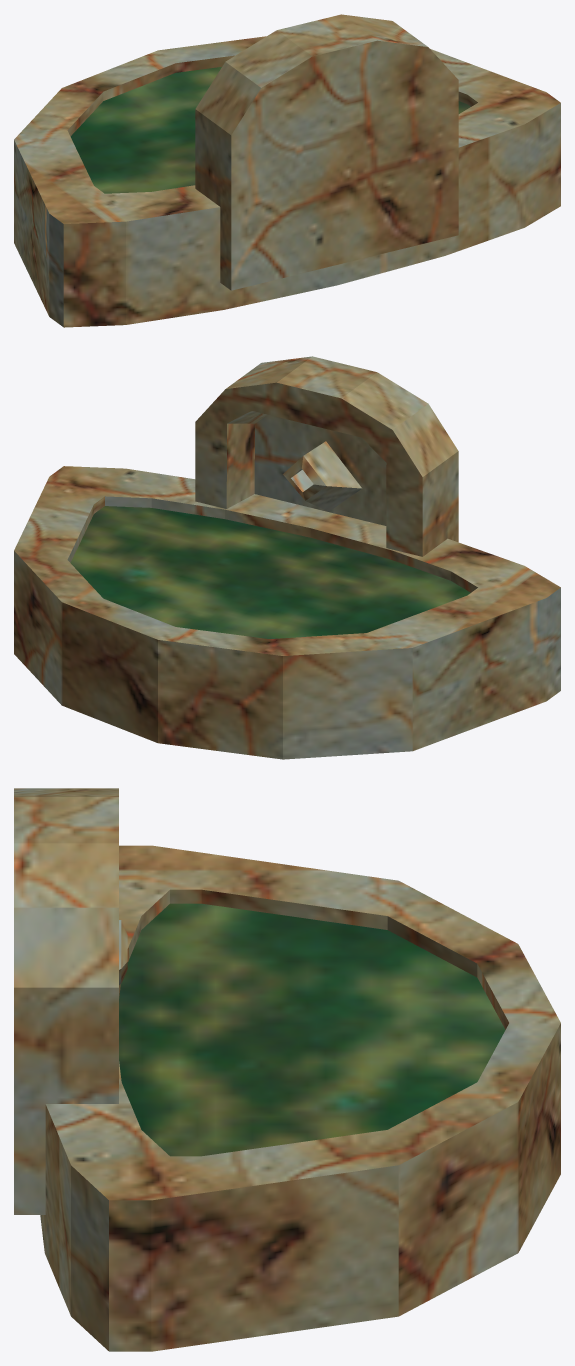
The picture shows the model from 3 angles, top to bottom: view 1: azimuth 30°, elevation 25°; view 2: azimuth 150°, elevation 25°; view 3: azimuth 270°, elevation 25°; orthographic projection. The views are drawn at different scales.
Parts seen in each view (by area): view 1: 噴水, 平面; view 2: 噴水, 平面; view 3: 噴水, 平面.
Part boxes in pixels (left/top/right/bottom): 噴水: left=14, top=14, right=560, bottom=327; 平面: left=70, top=67, right=470, bottom=193; 噴水: left=14, top=356, right=560, bottom=759; 平面: left=70, top=506, right=470, bottom=638; 噴水: left=14, top=788, right=560, bottom=1351; 平面: left=119, top=903, right=505, bottom=1156.
Bounding box in the file's own units: 75.2 × 34.99 × 48.98.
2 materials, 2 textured.
